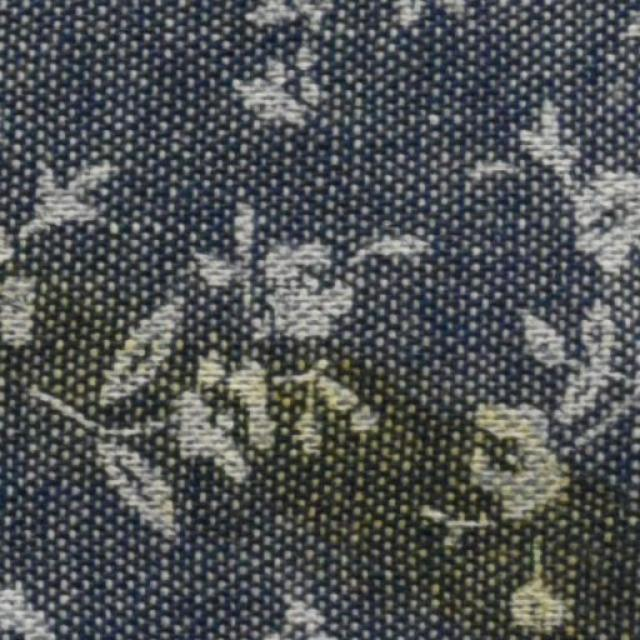Stain: (0, 235, 639, 639)
